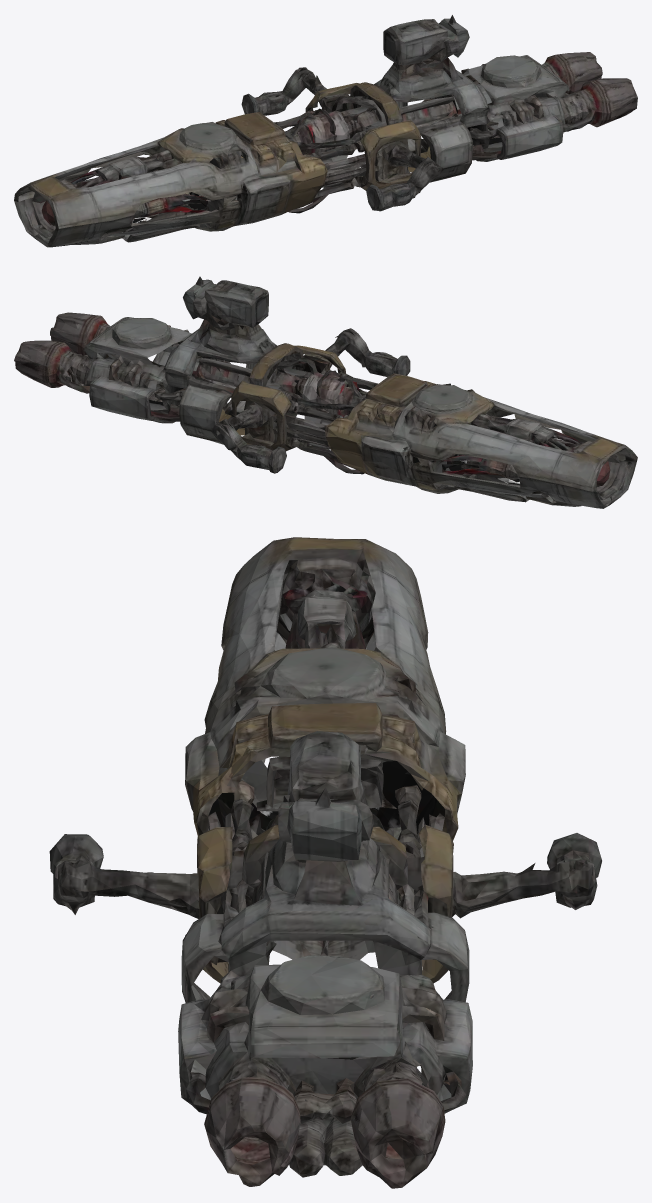
Rendered from 03_巡洋艦.glb.
3 views of the same model, one above another, from view 1: azimuth 30°, elevation 25°; view 2: azimuth 150°, elevation 25°; view 3: azimuth 270°, elevation 25° (orthographic). The views are drawn at different scales.
Visible parts, largest first — view 1: part_1; view 2: part_1; view 3: part_1.
Part boxes in pixels (left/top/right/bottom): part_1: left=14, top=15, right=637, bottom=247; part_1: left=14, top=276, right=637, bottom=508; part_1: left=49, top=537, right=601, bottom=1188.
Size of the model in its own units: 1 by 0.2675 by 0.4144.
Materials: 1 (1 with a texture image).
